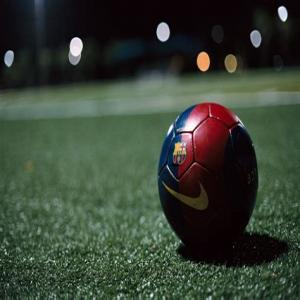Football: (156, 100, 259, 254)
